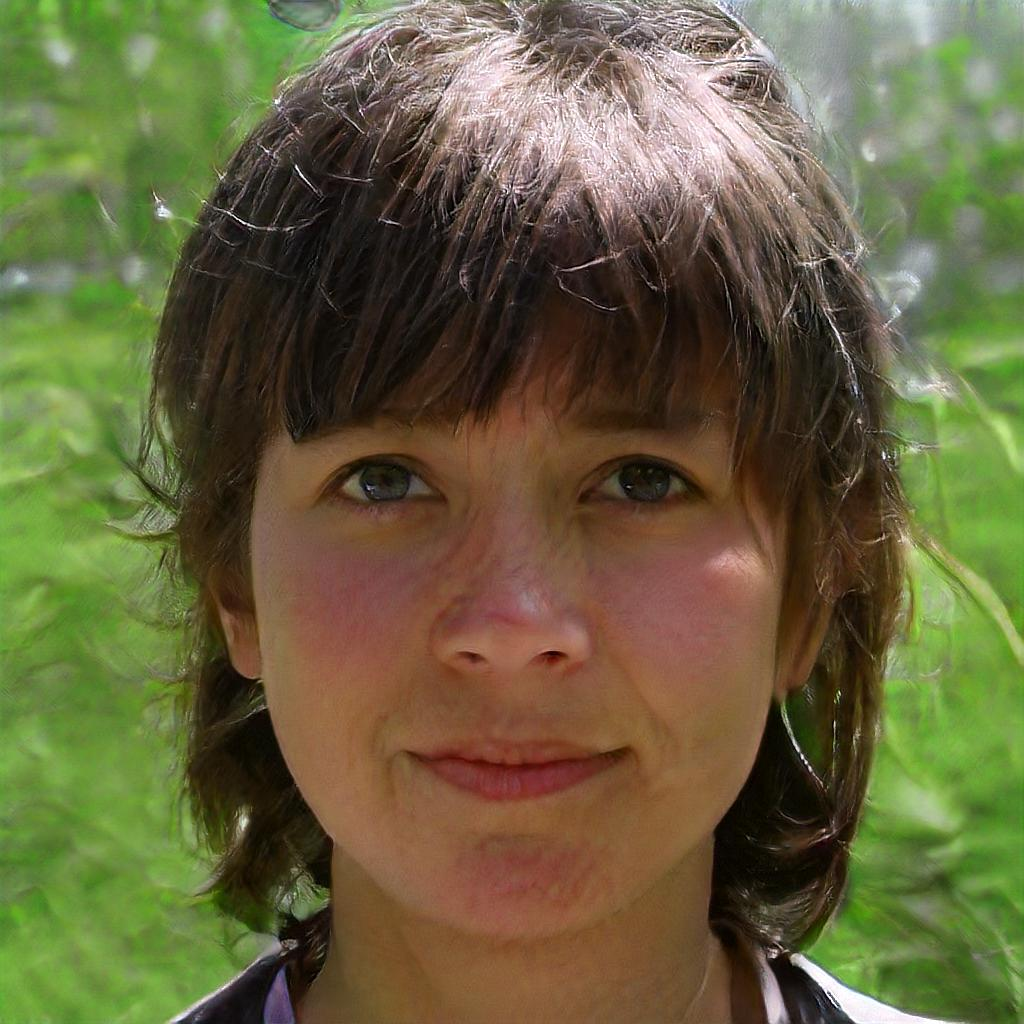face: (252, 319, 774, 938)
